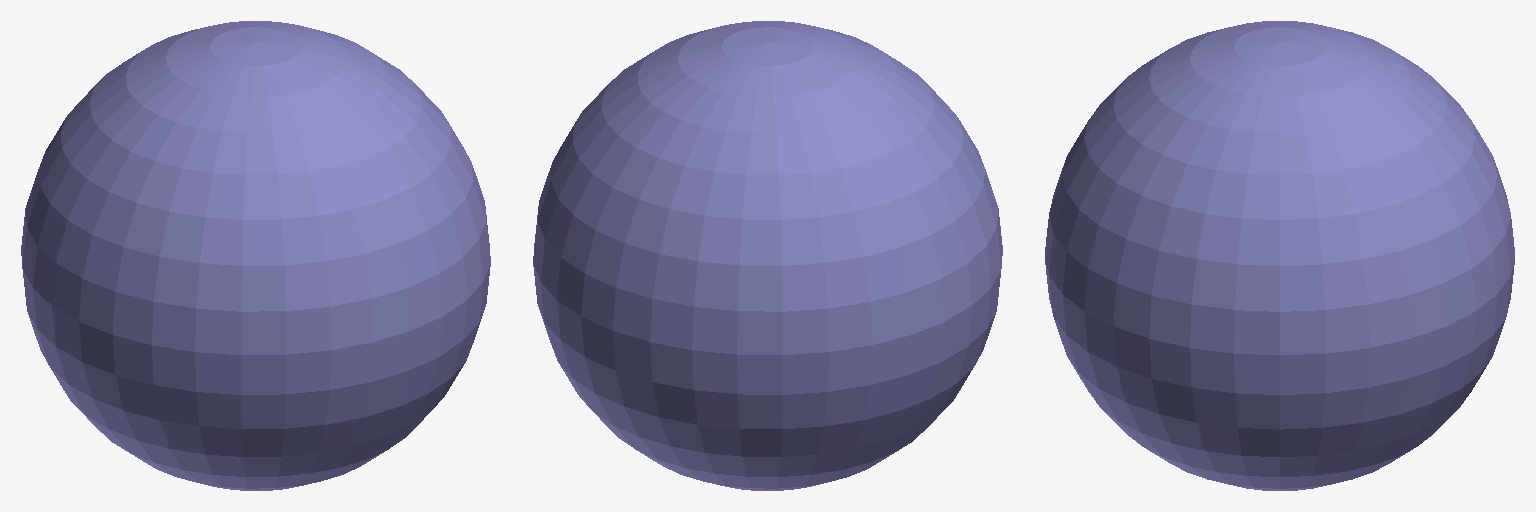
File: Projectile.obj
3 views of the same model, side by side, from view 1: azimuth 30°, elevation 25°; view 2: azimuth 150°, elevation 25°; view 3: azimuth 270°, elevation 25° (orthographic).
Parts seen in each view (by area): view 1: Sphere; view 2: Sphere; view 3: Sphere.
Boxes of the visible parts, x1,y1,x2,y2 form: Sphere: [21, 21, 490, 490]; Sphere: [533, 21, 1002, 490]; Sphere: [1045, 21, 1514, 490].
Bounding box in the file's own units: 1.01 × 1.01 × 1.01.